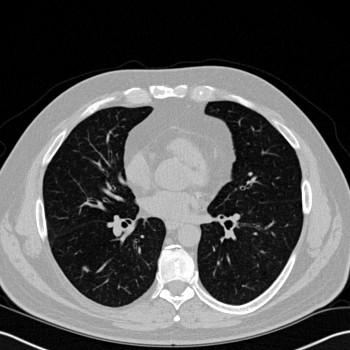nodule: (82, 266, 88, 272)
